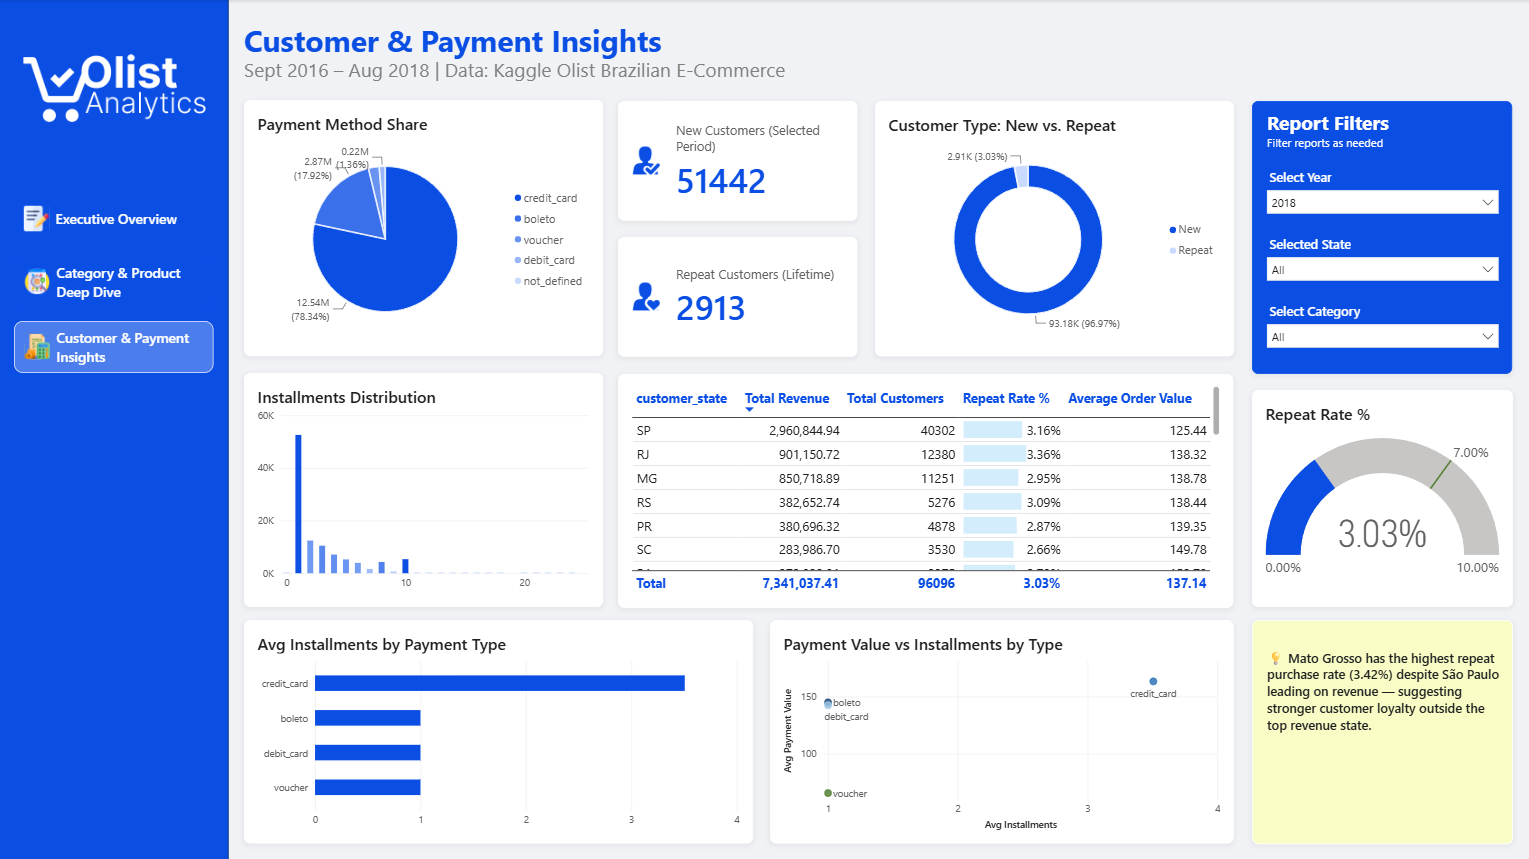

The dashboard page shown, as its layout file describes it:
{"tool":"powerbi","page":{"name":"Customer & Payment Insights","canvas":[1920,1080],"ordinal":2},"visuals":[{"type":"shape","box":[0,0,288.9,1080],"z":0},{"type":"shape","title":"Filters","box":[1570.9,127.3,326.4,341.8],"z":0,"group":"g3"},{"type":"group","id":"g1","title":"Group 3","box":[777.1,128.2,300,150.4],"z":0,"group":"g4"},{"type":"shape","box":[777.1,128.6,300,150],"z":0,"group":"g5"},{"type":"shape","box":[777.2,298.2,300,150],"z":0,"group":"g6"},{"type":"shape","box":[1571.7,778.3,327.4,280.7],"z":500,"group":"g7"},{"type":"image","box":[794,139,35.6,128.8],"z":1000,"group":"g5"},{"type":"slicer","fields":{"Values":["dim_date.year"]},"box":[1584.5,211.8,300,75.5],"z":1000,"group":"g3"},{"type":"actionButton","box":[20,242.5,250,65],"z":1000},{"type":"group","id":"g2","title":"Group 4","box":[777.2,298.2,300,150],"z":1000,"group":"g4"},{"type":"image","box":[793.1,308.6,35.6,128.8],"z":1000,"group":"g6"},{"type":"slicer","fields":{"Values":["dim_customer.customer_state"]},"box":[1584.5,295.5,300,75.5],"z":2000,"group":"g3"},{"type":"actionButton","box":[20,322.5,250,65],"z":2000},{"type":"slicer","fields":{"Values":["dim_product.category_name_en"]},"box":[1584.5,379.1,300,75.5],"z":3000,"group":"g3"},{"type":"actionButton","box":[20,403.8,250,65],"z":3000},{"type":"textbox","box":[308.6,25.7,545.7,55.7],"z":4000},{"type":"textbox","box":[1590,137.8,287.8,62.2],"z":4000,"group":"g3"},{"type":"textbox","box":[308.6,71.4,797.1,40],"z":5000},{"type":"image","box":[24.3,50,238.6,121.4],"z":6000},{"type":"group","id":"g3","title":"Group 1","box":[1570.9,127.3,326.4,341.8],"z":7000},{"type":"pieChart","title":"Payment Method Share","fields":{"Category":["fact_payments.payment_type"],"Y":["_Measures.Total Payment Value"]},"box":[308.6,127.1,450,321.4],"z":8000},{"type":"columnChart","title":"Installments Distribution","fields":{"Category":["fact_payments.payment_installments"],"Y":["_Measures.Count Rows"]},"box":[308.6,468.6,450,292.9],"z":9000},{"type":"donutChart","title":"Customer Type: New vs. Repeat","fields":{"Category":["dim_customer.Customer Type"],"Y":["CountNonNull(dim_customer.customer_unique_id)"]},"box":[1098.2,128.2,450,320],"z":10000},{"type":"group","id":"g4","title":"Group 5","box":[777.1,128.2,300.1,320],"z":11000},{"type":"group","id":"g5","title":"Group 2","box":[777.1,128.6,300,150],"z":12000,"group":"g1"},{"type":"tableEx","fields":{"Values":["dim_customer.customer_state","_Measures.Total Revenue","_Measures.Total Customers","_Measures.Repeat Rate %","_Measures.Average Order Value"]},"box":[777.2,469.3,770.6,293.1],"z":12000},{"type":"clusteredBarChart","title":"Avg Installments by Payment Type","fields":{"Category":["fact_payments.payment_type"],"Y":["_Measures.Avg Installments"]},"box":[308.3,778.3,638.3,280],"z":13000},{"type":"cardVisual","title":"New Customers","fields":{"Data":["_Measures.New Customers (Period)"]},"box":[830,128.2,232.7,150],"z":14000,"group":"g1"},{"type":"gauge","fields":{"Y":["_Measures.Repeat Rate %"]},"box":[1571.7,490,326.7,271.7],"z":14000},{"type":"group","id":"g6","title":"Group 2","box":[777.2,298.2,300,150],"z":15000,"group":"g2"},{"type":"scatterChart","title":"Payment Value vs Installments by Type","fields":{"Series":["fact_payments.payment_type"],"X":["_Measures.Avg Installments"],"Y":["_Measures.Avg Payment Value"]},"box":[967.1,778.6,581.4,280],"z":15000},{"type":"cardVisual","fields":{"Data":["_Measures.Repeat Customers (Lifetime)"]},"box":[829.9,300,232.7,148.2],"z":16000,"group":"g2"},{"type":"group","id":"g7","title":"Group 3","box":[1571.7,778.3,327.4,280.7],"z":16000},{"type":"cardVisual","fields":{"Data":["_Measures.Insight - Loyalty Leader"]},"box":[1590.4,789.1,294.9,152.2],"z":16001}]}

Visuals, with their boxes in screenshot pixels (x1, y1, x2, y2), scaled from the page's 1920x1080 canvas onto the 1529x859 screenshot:
shape: Rect(0, 0, 230, 858)
"Filters" shape: Rect(1251, 101, 1511, 373)
"Group 3" group: Rect(619, 102, 858, 222)
shape: Rect(619, 102, 858, 222)
shape: Rect(619, 237, 858, 356)
shape: Rect(1252, 619, 1512, 842)
image: Rect(632, 111, 661, 213)
slicer - dim_date.year: Rect(1262, 168, 1501, 229)
actionButton: Rect(16, 193, 215, 245)
"Group 4" group: Rect(619, 237, 858, 356)
image: Rect(632, 245, 660, 348)
slicer - dim_customer.customer_state: Rect(1262, 235, 1501, 295)
actionButton: Rect(16, 257, 215, 308)
slicer - dim_product.category_name_en: Rect(1262, 302, 1501, 362)
actionButton: Rect(16, 321, 215, 373)
textbox: Rect(246, 20, 680, 65)
textbox: Rect(1266, 110, 1495, 159)
textbox: Rect(246, 57, 881, 89)
image: Rect(19, 40, 209, 136)
"Group 1" group: Rect(1251, 101, 1511, 373)
"Payment Method Share" pieChart: Rect(246, 101, 604, 357)
"Installments Distribution" columnChart: Rect(246, 373, 604, 606)
"Customer Type: New vs. Repeat" donutChart: Rect(875, 102, 1233, 356)
"Group 5" group: Rect(619, 102, 858, 356)
"Group 2" group: Rect(619, 102, 858, 222)
tableEx - dim_customer.customer_state x _Measures.Total Revenue: Rect(619, 373, 1233, 606)
"Avg Installments by Payment Type" clusteredBarChart: Rect(246, 619, 754, 842)
"New Customers" cardVisual: Rect(661, 102, 846, 221)
gauge - _Measures.Repeat Rate %: Rect(1252, 390, 1512, 606)
"Group 2" group: Rect(619, 237, 858, 356)
"Payment Value vs Installments by Type" scatterChart: Rect(770, 619, 1233, 842)
cardVisual - _Measures.Repeat Customers (Lifetime): Rect(661, 239, 846, 356)
"Group 3" group: Rect(1252, 619, 1512, 842)
cardVisual - _Measures.Insight - Loyalty Leader: Rect(1267, 628, 1501, 749)
